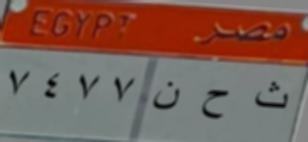4: (39, 73, 63, 108)
7: (108, 69, 136, 107), (78, 67, 104, 104), (4, 63, 31, 97)
7aa: (198, 81, 230, 129)
noon: (149, 77, 186, 120)
thaa: (251, 79, 288, 118)
